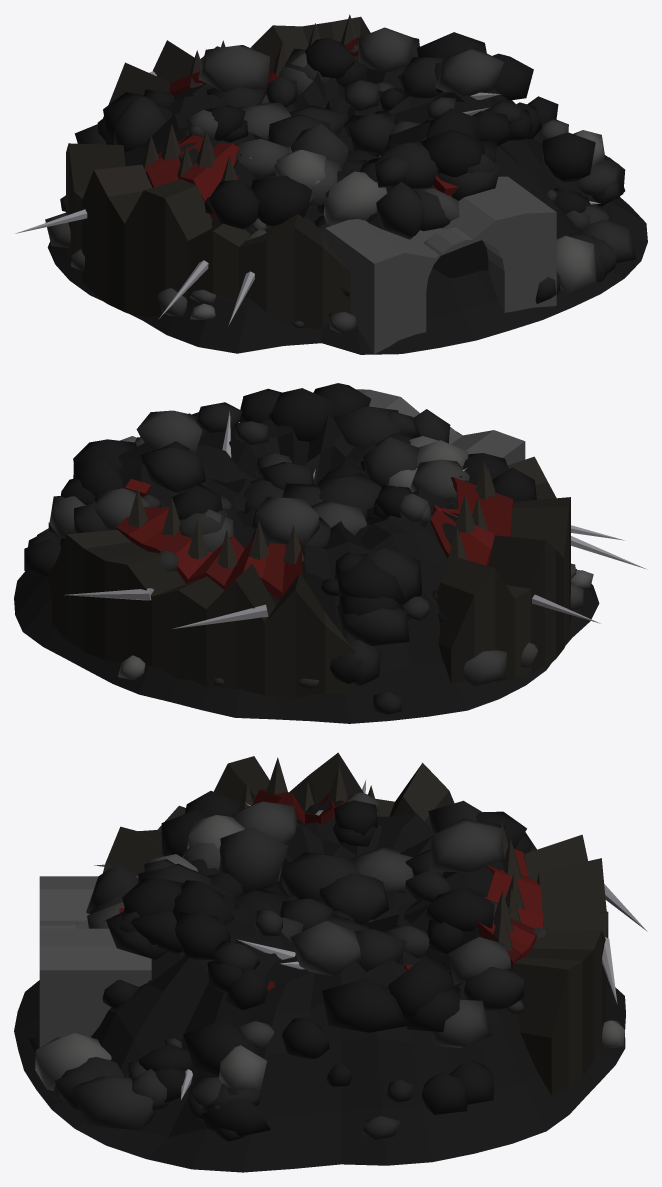
File: TarTower02a.glb
The picture shows the model from 3 angles, top to bottom: view 1: azimuth 30°, elevation 25°; view 2: azimuth 150°, elevation 25°; view 3: azimuth 270°, elevation 25°; orthographic projection. The views are drawn at different scales.
Parts seen in each view (by area): view 1: TarTower02a_gate; view 2: TarTower02a_gate; view 3: TarTower02a_gate.
Boxes of the visible parts, x1,y1,x2,y2 form: TarTower02a_gate: (15,14,647,354); TarTower02a_gate: (14,383,646,723); TarTower02a_gate: (14,752,647,1172).
Size of the model in its own units: 8.62 by 2.4 by 7.36.
